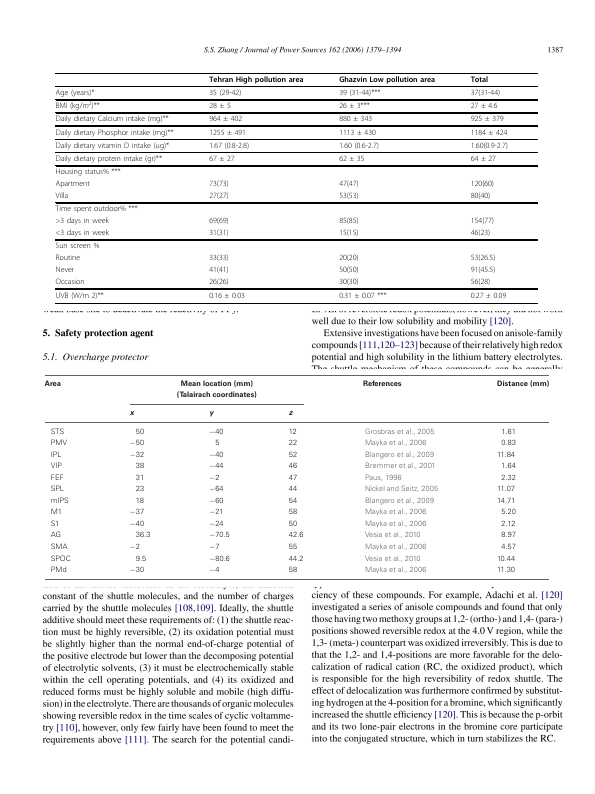borderless: (54, 71, 538, 303), (44, 374, 549, 579)
cell: (176, 380, 258, 400), (55, 128, 175, 137), (55, 154, 163, 164), (55, 115, 170, 124), (55, 141, 170, 150), (338, 75, 436, 84), (208, 75, 304, 84), (55, 205, 138, 214), (364, 485, 439, 494), (55, 167, 121, 177), (364, 463, 436, 472), (364, 428, 435, 437), (364, 451, 435, 460), (364, 497, 435, 506), (364, 520, 427, 529), (364, 543, 427, 552), (364, 566, 427, 575), (55, 228, 110, 238), (54, 100, 101, 111), (364, 532, 421, 541), (364, 555, 421, 564), (364, 440, 427, 448), (364, 509, 427, 517), (55, 217, 110, 226), (55, 291, 104, 300), (338, 291, 387, 300), (496, 380, 550, 388), (338, 88, 381, 98), (54, 88, 95, 98), (55, 242, 100, 251), (208, 141, 250, 150), (338, 141, 380, 150), (55, 179, 91, 189), (208, 128, 247, 137), (338, 128, 377, 137), (470, 141, 509, 150), (364, 474, 403, 483), (470, 128, 508, 137), (208, 291, 246, 300), (208, 88, 242, 98), (470, 291, 507, 300), (338, 101, 371, 111), (362, 380, 403, 388), (208, 115, 243, 124), (338, 115, 373, 124), (470, 115, 505, 124), (470, 88, 501, 98), (470, 101, 498, 111), (208, 154, 235, 164), (338, 154, 365, 164), (470, 154, 497, 164), (55, 278, 85, 287), (470, 179, 495, 189), (208, 101, 232, 111), (55, 254, 81, 263), (470, 254, 496, 263), (470, 266, 496, 275), (470, 217, 495, 226), (208, 179, 230, 189), (208, 191, 230, 201), (208, 228, 230, 238), (338, 179, 359, 189), (338, 191, 359, 201), (470, 191, 491, 201), (338, 228, 359, 238), (470, 228, 491, 238), (208, 532, 231, 541), (208, 555, 231, 564), (208, 217, 230, 226), (208, 254, 230, 263), (208, 266, 230, 275), (208, 278, 230, 287), (50, 555, 72, 564), (338, 217, 359, 226), (338, 254, 359, 263), (338, 266, 359, 275), (338, 278, 359, 287), (470, 278, 491, 287), (55, 266, 75, 275), (496, 451, 516, 460), (496, 485, 516, 494), (50, 497, 70, 506), (496, 497, 516, 506), (496, 555, 516, 564), (496, 566, 516, 575), (470, 75, 489, 84), (50, 543, 68, 552), (50, 566, 68, 575), (208, 428, 225, 437), (500, 428, 517, 437), (208, 451, 225, 460), (208, 463, 225, 472), (500, 463, 517, 472), (500, 474, 517, 483), (208, 485, 225, 494), (208, 497, 225, 506), (208, 509, 225, 518), (208, 520, 225, 529), (500, 532, 517, 541), (500, 543, 517, 552), (43, 380, 62, 388), (50, 440, 68, 448), (129, 451, 145, 460), (129, 509, 145, 518), (129, 520, 145, 529), (500, 520, 516, 529), (135, 532, 151, 541), (288, 532, 304, 541), (288, 555, 304, 564), (129, 566, 145, 575), (55, 191, 69, 201), (500, 440, 517, 448), (500, 509, 517, 517), (50, 428, 65, 437), (50, 474, 65, 483), (50, 485, 65, 494), (129, 440, 145, 448), (50, 451, 63, 460), (50, 463, 63, 472), (50, 509, 63, 518), (208, 474, 220, 483), (50, 532, 62, 541), (129, 543, 141, 552), (208, 543, 220, 552), (135, 555, 147, 564), (208, 566, 220, 575), (135, 428, 145, 437), (288, 428, 298, 437), (288, 451, 298, 460), (135, 463, 145, 472), (288, 463, 298, 472), (135, 474, 145, 483), (288, 474, 298, 483), (135, 485, 145, 494), (288, 485, 298, 494), (135, 497, 145, 506), (288, 497, 298, 506), (288, 509, 298, 518), (50, 520, 60, 529), (288, 520, 298, 529), (288, 543, 298, 552), (288, 566, 298, 575), (288, 440, 298, 448), (214, 440, 220, 448), (129, 411, 135, 418), (208, 411, 214, 418), (288, 411, 293, 418)
